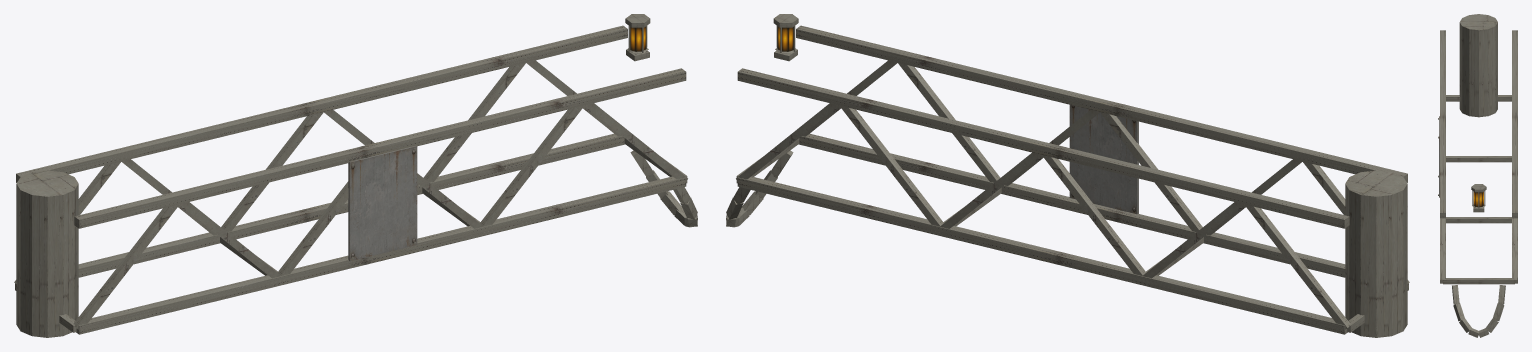
The model's file is service-tower-swing-arm.glb.
3 views of the same model, side by side, from view 1: azimuth 30°, elevation 25°; view 2: azimuth 150°, elevation 25°; view 3: azimuth 270°, elevation 25° (orthographic). The views are drawn at different scales.
Parts seen in each view (by area): view 1: service-tower-swing-arm_metal; view 2: service-tower-swing-arm_metal; view 3: service-tower-swing-arm_metal, service-tower-swing-arm_emissive.
Part boxes in pixels (box(x1,y1,x2,y2)): service-tower-swing-arm_metal: box(14, 14, 697, 337); service-tower-swing-arm_metal: box(726, 14, 1409, 337); service-tower-swing-arm_metal: box(1438, 14, 1517, 337); service-tower-swing-arm_emissive: box(1473, 192, 1483, 207).
Size of the model in its own units: 19.91 by 6.2 by 3.32.
2 materials, 2 textured.
